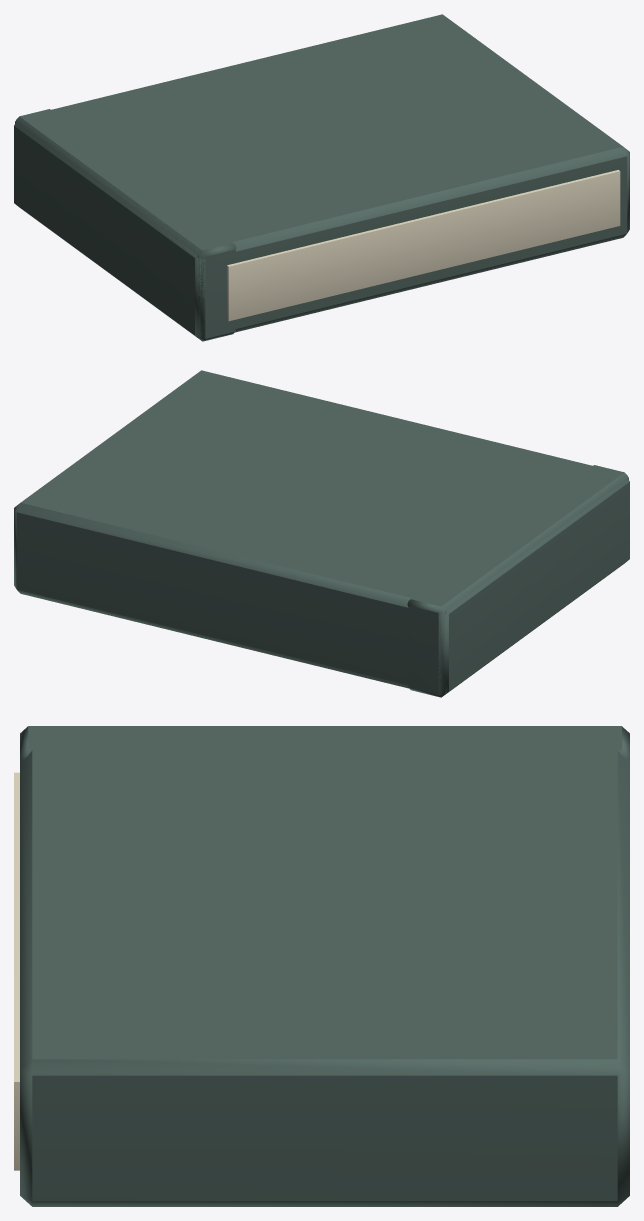
Rendered from item_libraryBook.glb.
3 renders of one model, top to bottom at view 1: azimuth 30°, elevation 25°; view 2: azimuth 150°, elevation 25°; view 3: azimuth 270°, elevation 25°, orthographic. The views are drawn at different scales.
Parts seen in each view (by area): view 1: item_libraryBook; view 2: item_libraryBook; view 3: item_libraryBook.
Boxes of the visible parts, bbox=[...] form: item_libraryBook: bbox=[14, 14, 629, 341]; item_libraryBook: bbox=[14, 370, 629, 697]; item_libraryBook: bbox=[14, 726, 629, 1206].
Bounding box in the file's own units: 0.2 × 0.04 × 0.1515.
